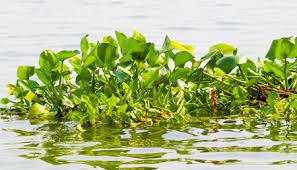water_hyacinth: (2, 32, 297, 133)
